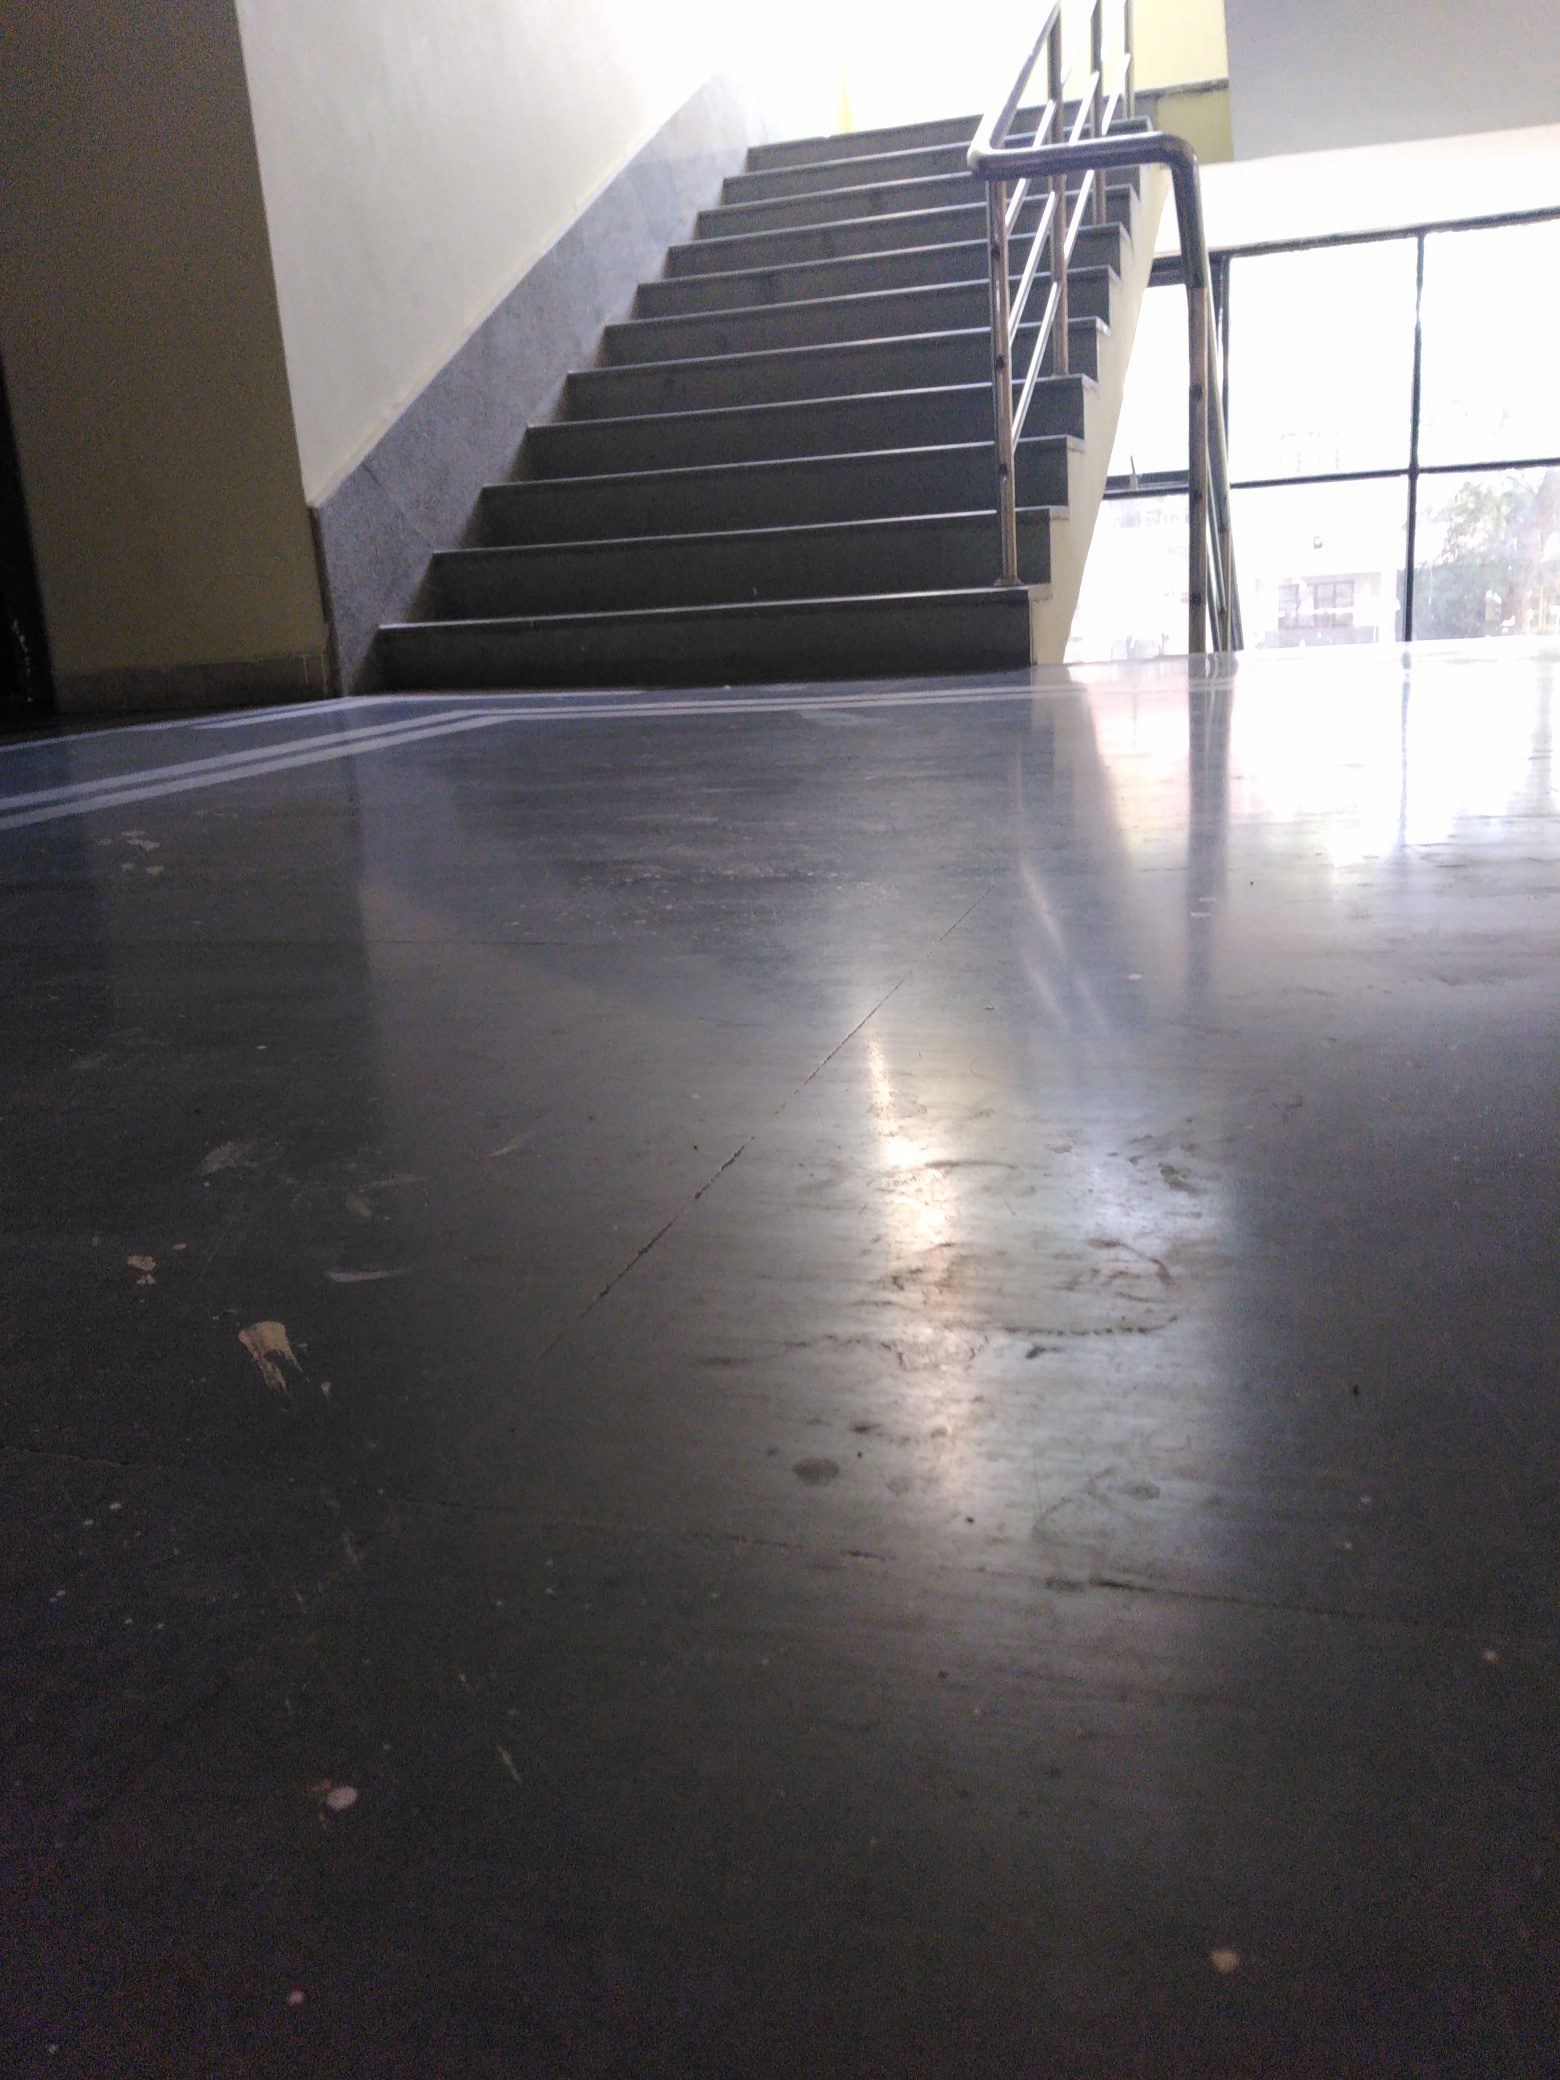stairs_up: (362, 80, 1154, 658)
